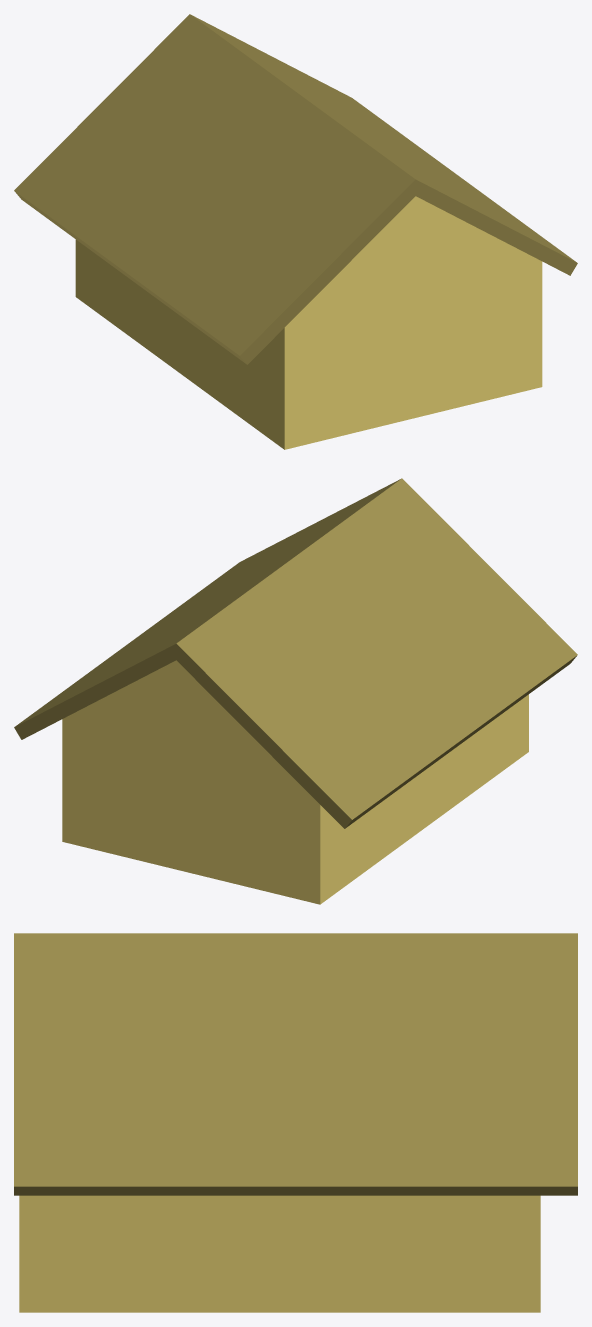
File: result.glb
3 renders of one model, top to bottom at view 1: azimuth 30°, elevation 25°; view 2: azimuth 150°, elevation 25°; view 3: azimuth 270°, elevation 25°, orthographic. The views are drawn at different scales.
Parts seen in each view (by area): view 1: 6d9ddfc6-10a3-4a6d-9255-3450d071701d__undefined (×2), faf5af90-0452-49cb-996f-56cf27f139c8__undefined; view 2: 6d9ddfc6-10a3-4a6d-9255-3450d071701d__undefined (×2), faf5af90-0452-49cb-996f-56cf27f139c8__undefined; view 3: 6d9ddfc6-10a3-4a6d-9255-3450d071701d__undefined, faf5af90-0452-49cb-996f-56cf27f139c8__undefined.
Part boxes in pixels (left/top/right/bottom): 6d9ddfc6-10a3-4a6d-9255-3450d071701d__undefined (×2): left=14, top=14, right=577, bottom=364; faf5af90-0452-49cb-996f-56cf27f139c8__undefined: left=75, top=196, right=542, bottom=449; 6d9ddfc6-10a3-4a6d-9255-3450d071701d__undefined (×2): left=14, top=478, right=577, bottom=828; faf5af90-0452-49cb-996f-56cf27f139c8__undefined: left=62, top=660, right=528, bottom=904; 6d9ddfc6-10a3-4a6d-9255-3450d071701d__undefined: left=14, top=933, right=577, bottom=1195; faf5af90-0452-49cb-996f-56cf27f139c8__undefined: left=19, top=1195, right=540, bottom=1312.
Size of the model in its own units: 654 by 445 by 757.
